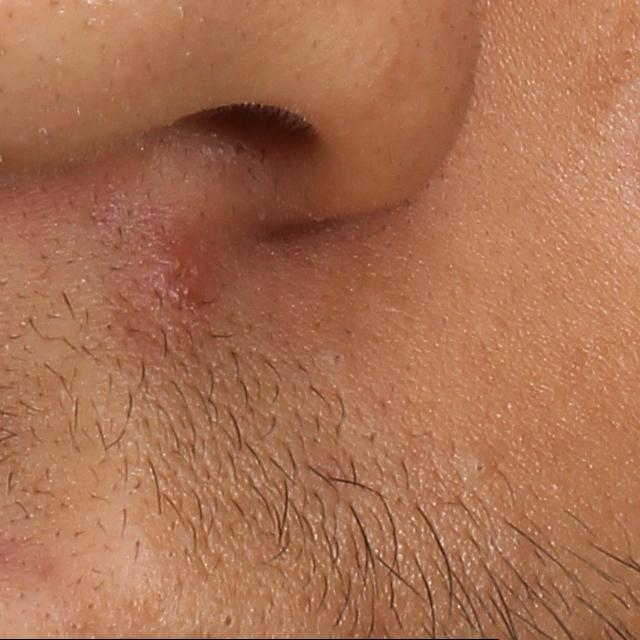comedo: (468, 453, 494, 480), (217, 610, 238, 633)
papule: (123, 212, 226, 322)
